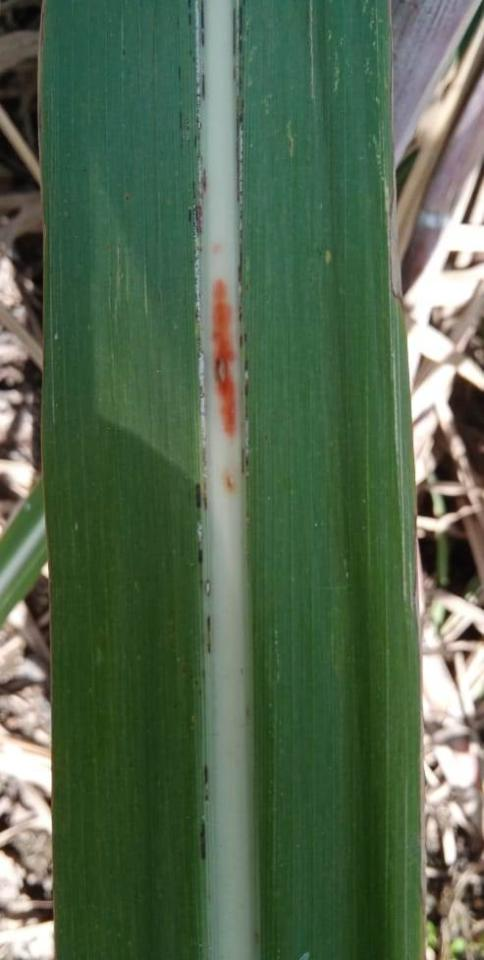RedRot: (209, 275, 243, 436), (222, 471, 237, 495)
Rust: (237, 78, 244, 206), (194, 481, 209, 513), (188, 203, 202, 235), (199, 814, 207, 863), (202, 762, 211, 805), (244, 357, 250, 420), (205, 612, 212, 655), (198, 518, 204, 565), (237, 241, 243, 283), (241, 446, 249, 475), (200, 168, 208, 195), (240, 7, 244, 55), (200, 0, 206, 30), (239, 331, 248, 349), (233, 6, 236, 56), (205, 578, 212, 597), (202, 72, 206, 103), (239, 304, 244, 324), (178, 63, 182, 82), (186, 0, 193, 10), (201, 32, 205, 48), (189, 12, 193, 26), (233, 69, 236, 80)
